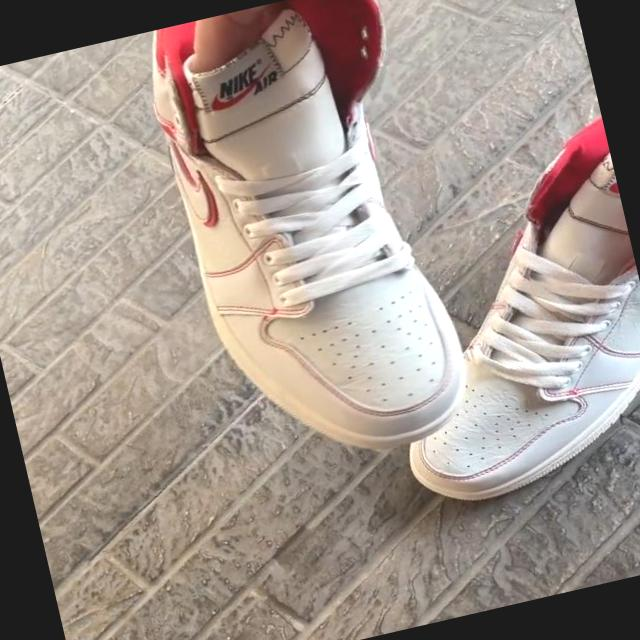nike_fake_jordan: (137, 0, 484, 482), (339, 113, 640, 518)
